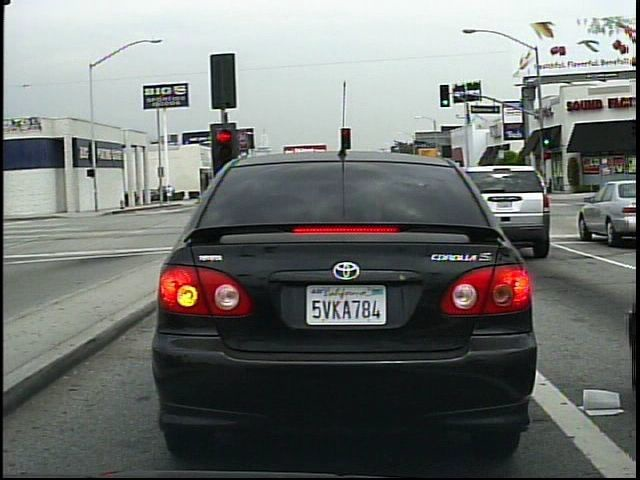person: (518, 166, 534, 198), (165, 183, 176, 206)
